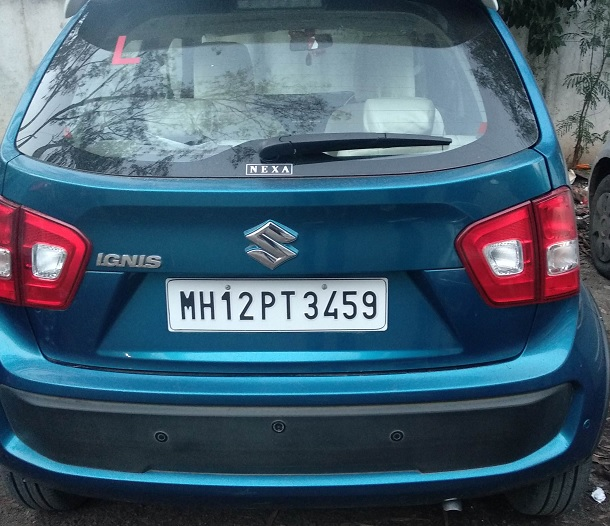licenseplate: (165, 272, 390, 334)
